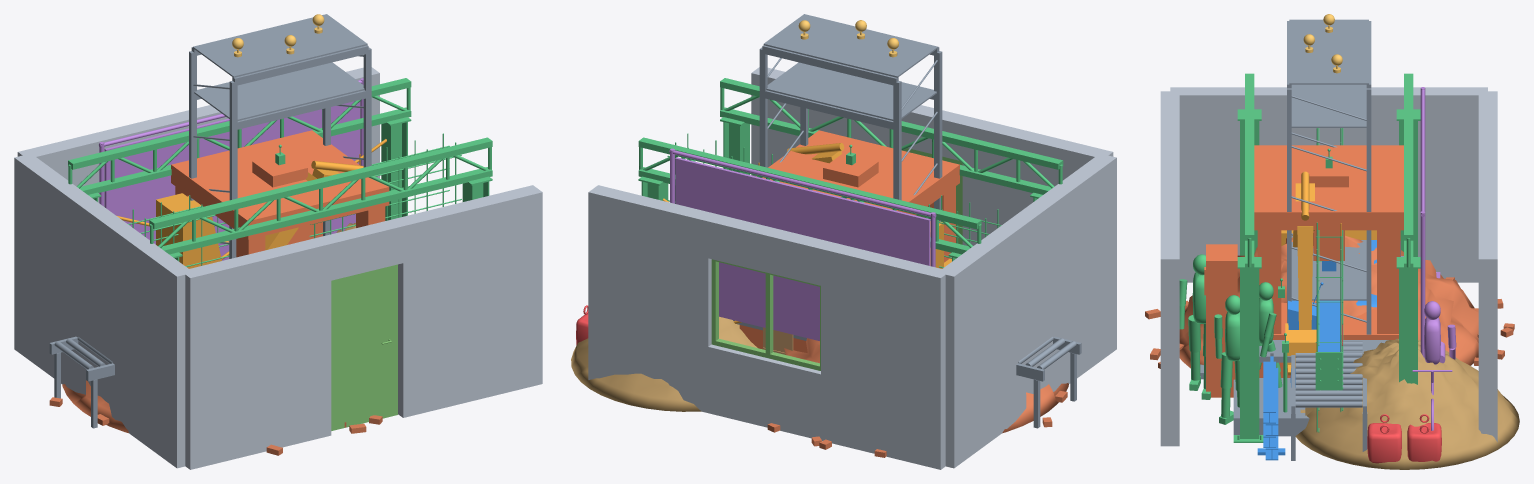
Rendered from stations.glb.
3 views of the same model, side by side, from view 1: azimuth 30°, elevation 25°; view 2: azimuth 150°, elevation 25°; view 3: azimuth 270°, elevation 25° (orthographic). The views are drawn at different scales.
Parts seen in each view (by area): view 1: uc5|0|0, bonus|0|0, uc4|0|0, uc5|1|0, uc3|1|1, talks|1|0, uc3|1|0, uc2|0|0, uc9|0|0, uc4|1|0, uc3|0|2, uc6|0|0 (+1 smaller); view 2: uc5|0|0, talks|1|0, bonus|0|0, uc4|0|0, uc3|1|1, uc3|1|0, uc2|1|0, uc5|1|1, uc4|1|0, uc6|0|0, uc3|0|3, uc2|0|0 (+1 smaller); view 3: uc5|0|0, uc4|0|0, bonus|0|0, uc2|1|0, uc6|0|0, uc4|1|1, uc3|0|3, uc2|0|0, uc3|0|2, uc7|1|1, uc7|1|2, uc3|1|0 (+15 smaller).
Boxes of the visible parts, x1,y1,x2,y2 form: uc5|0|0: (14,67,542,469); bonus|0|0: (189,14,371,260); uc4|0|0: (171,130,389,257); uc5|1|0: (331,264,397,430); uc3|1|1: (149,137,492,254); talks|1|0: (99,78,363,260); uc3|1|0: (68,78,411,194); uc2|0|0: (156,160,363,268); uc9|0|0: (128,133,461,266); uc4|1|0: (49,336,114,428); uc3|0|2: (381,117,411,220); uc6|0|0: (49,380,382,455); uc5|0|0: (588,67,1116,469); talks|1|0: (669,148,936,340); bonus|0|0: (759,14,942,221); uc4|0|0: (739,130,959,352); uc3|1|1: (720,78,1063,194); uc3|1|0: (638,137,981,254); uc2|1|0: (571,316,757,411); uc5|1|1: (711,259,820,370); uc4|1|0: (1016,336,1081,428); uc6|0|0: (767,338,1068,457); uc3|0|3: (720,117,749,174); uc2|0|0: (787,143,951,268); uc5|0|0: (1160,87,1497,446); uc4|0|0: (1204,145,1403,397); bonus|0|0: (1287,19,1371,334); uc2|1|0: (1295,338,1519,469); uc6|0|0: (1145,235,1514,368); uc4|1|1: (1291,341,1367,460); uc3|0|3: (1233,257,1263,442); uc2|0|0: (1281,171,1376,375); uc3|0|2: (1396,257,1420,384); uc7|1|1: (1214,295,1239,424); uc7|1|2: (1179,254,1210,399); uc3|1|0: (1404,73,1413,269).
Size of the model in its own units: 6.26 by 4.56 by 4.72.
